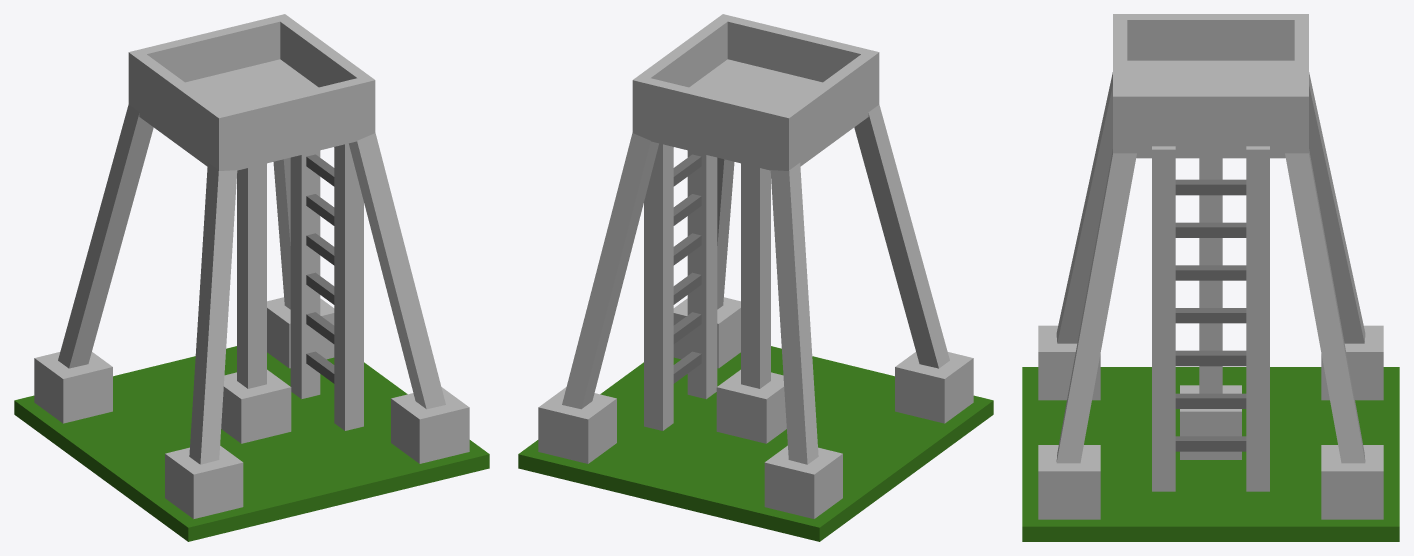
The model's file is lvl16.glb.
The picture shows the model from 3 angles, left to right: view 1: azimuth 30°, elevation 25°; view 2: azimuth 150°, elevation 25°; view 3: azimuth 270°, elevation 25°; orthographic projection. The views are drawn at different scales.
Parts seen in each view (by area): view 1: Plane.015; view 2: Plane.015; view 3: Plane.015.
Part boxes in pixels (<box>): Plane.015: <box>14,14,489,541</box>; Plane.015: <box>518,14,993,541</box>; Plane.015: <box>1022,14,1399,541</box>.
Size of the model in its own units: 4 by 4.76 by 4.
